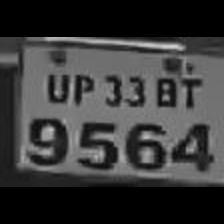1: (174, 63, 206, 109)
3: (120, 63, 150, 107), (96, 61, 124, 107)
4: (168, 117, 216, 169)
5: (70, 115, 120, 167)
6: (120, 117, 168, 169)
9: (20, 111, 70, 163)
B: (150, 63, 176, 107)
P: (68, 65, 96, 103)
U: (42, 65, 72, 103)
